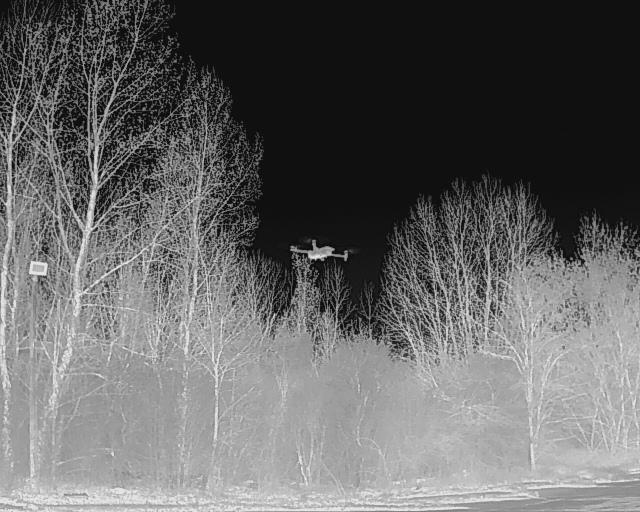drone: (286, 231, 352, 268)
